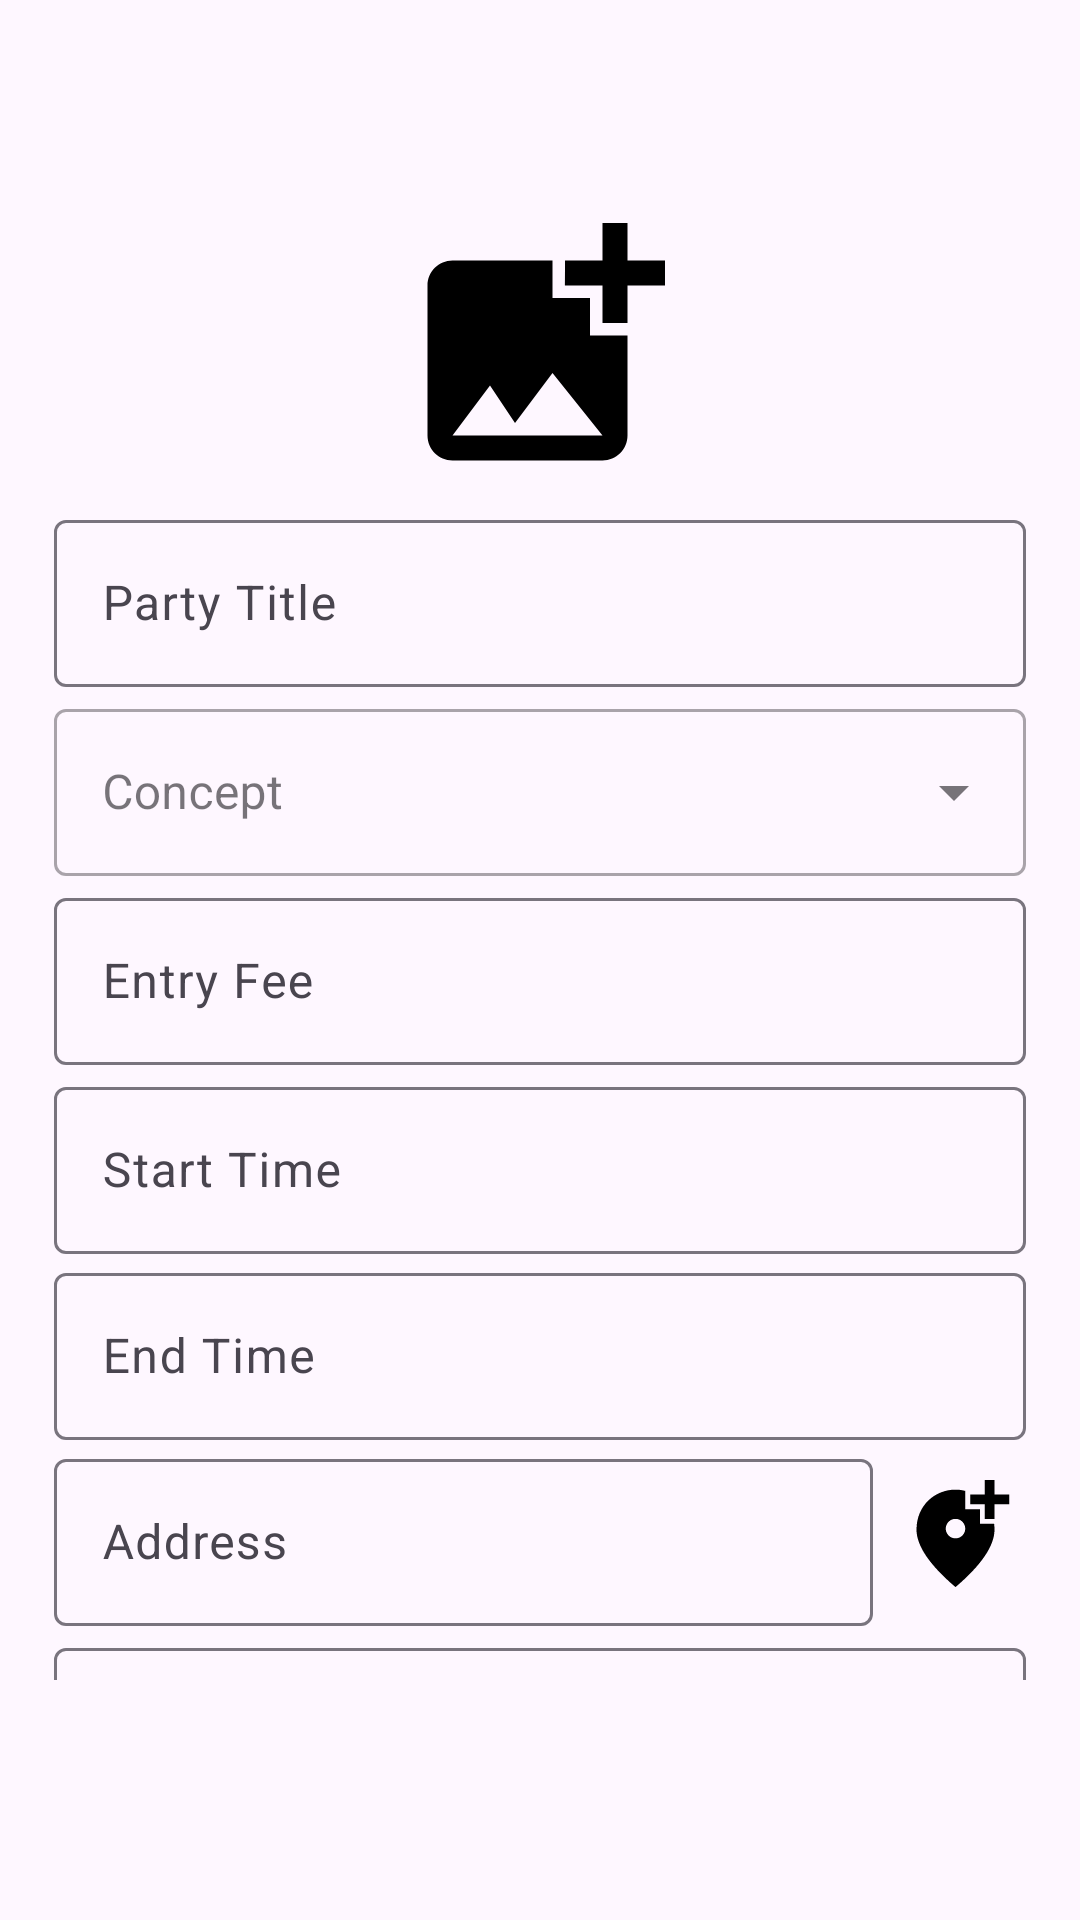

Point at icon controls on the screen. Image size 1080px×1920px, points as (x,y).
Location Pick Pin: (963,1533)
